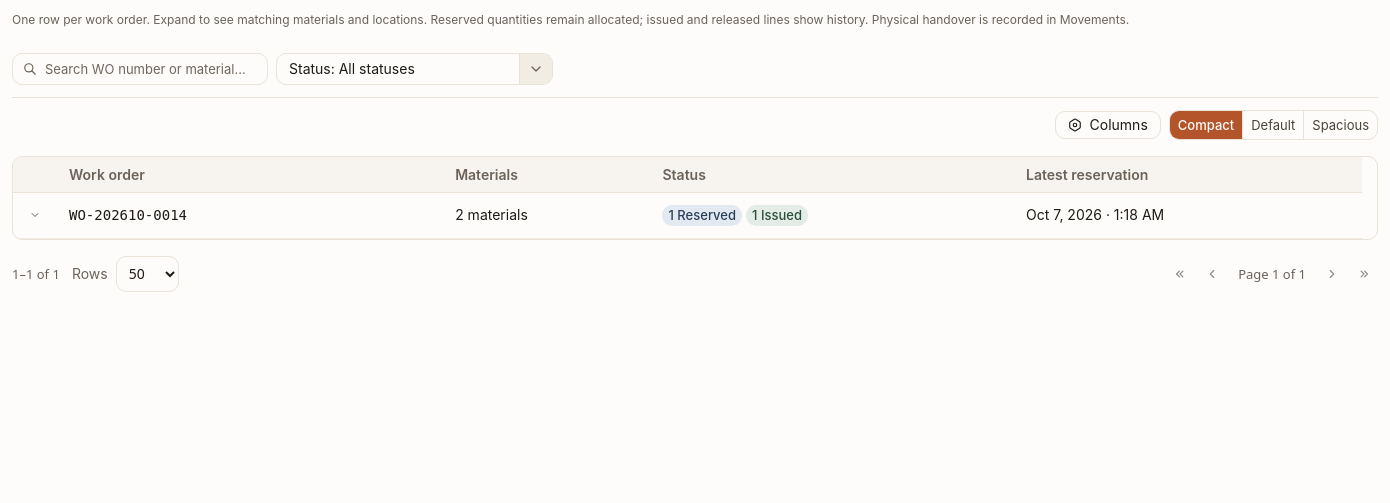
Test case: toggles material details by clicking the WO row or activating it with the keyboard
This screenshot has width=1390, height=503.
Click the text "2 materials". click: click(491, 215)
box: [443,193,650,238]
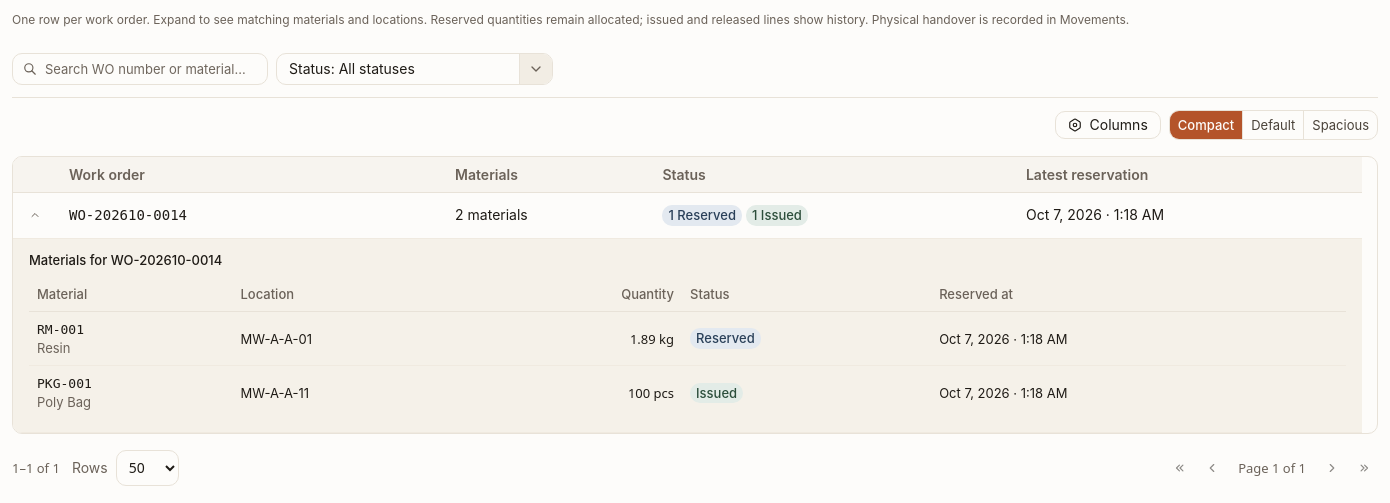
Result: the text "RM-001" is shown at [37,322,84,337]
Click the text "WO-202610-0014". click: click(688, 215)
box: [13,193,1362,238]
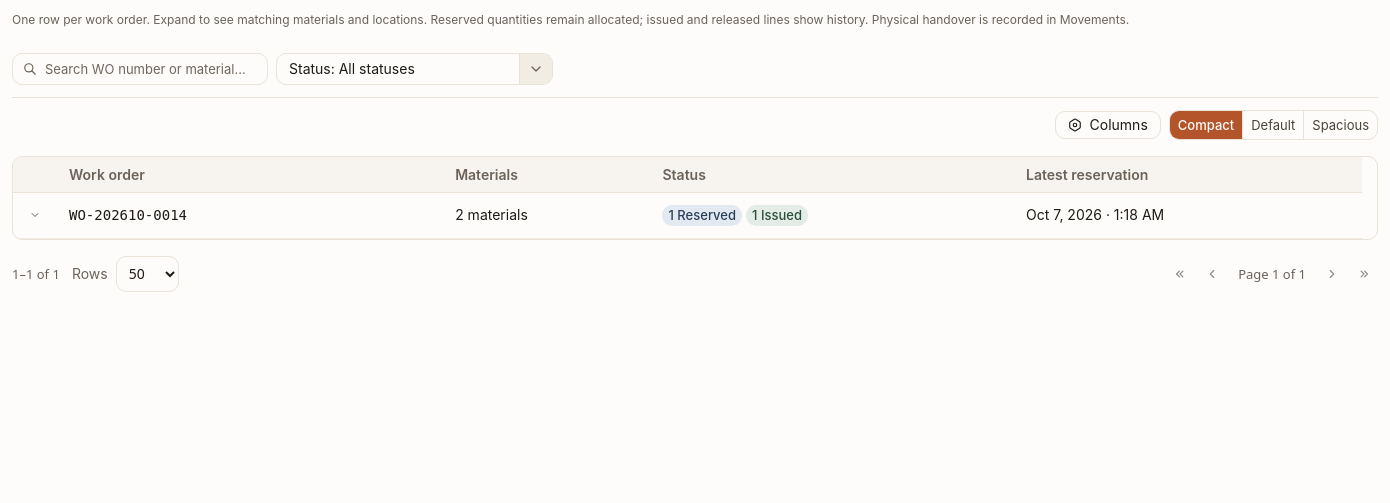
Result: the text "RM-001" is gone
Press Enter in the text "WO-202610-0014", box [13,193,1362,238]
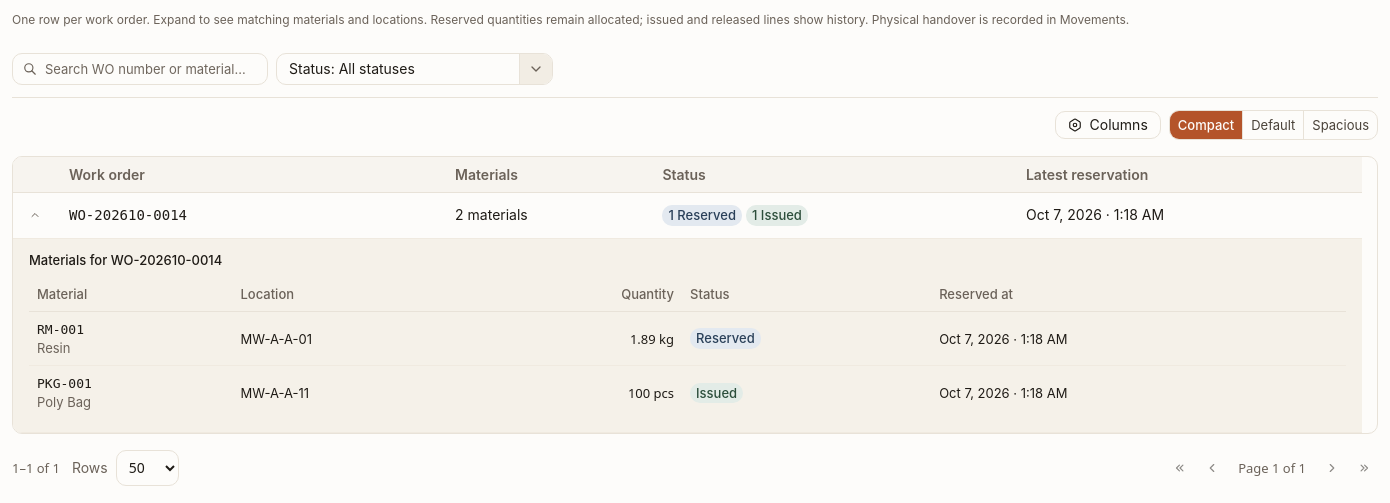
Result: the text "RM-001" is shown at [37,322,84,337]
Press Space in the text "WO-202610-0014", box [13,193,1362,238]
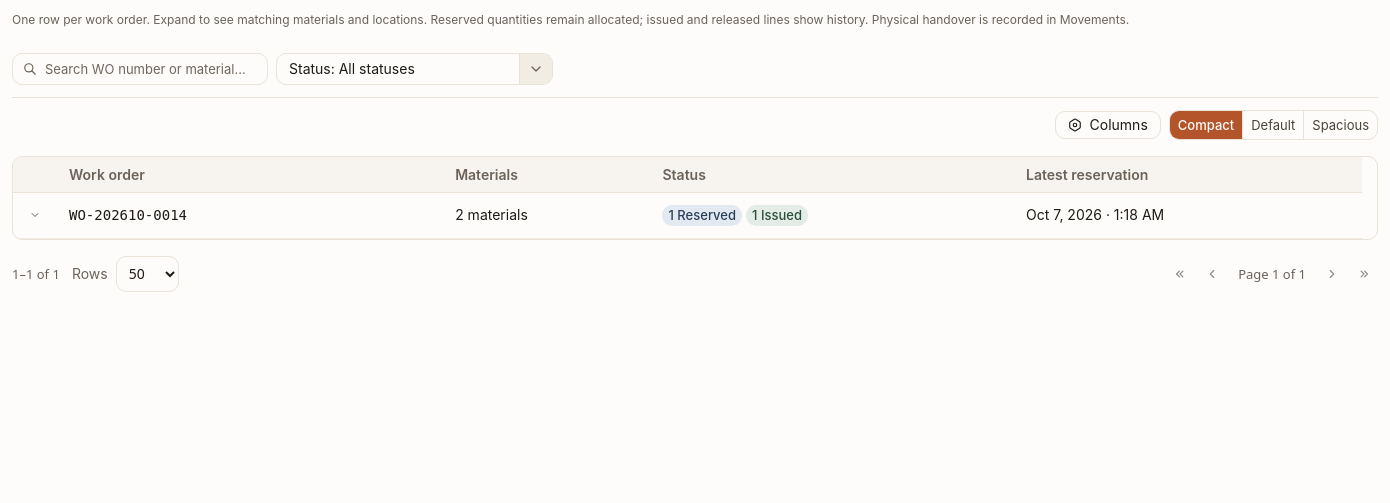
Result: the text "RM-001" is gone
Click the button named "Expand row". click: click(35, 215)
box: [25,205,45,225]
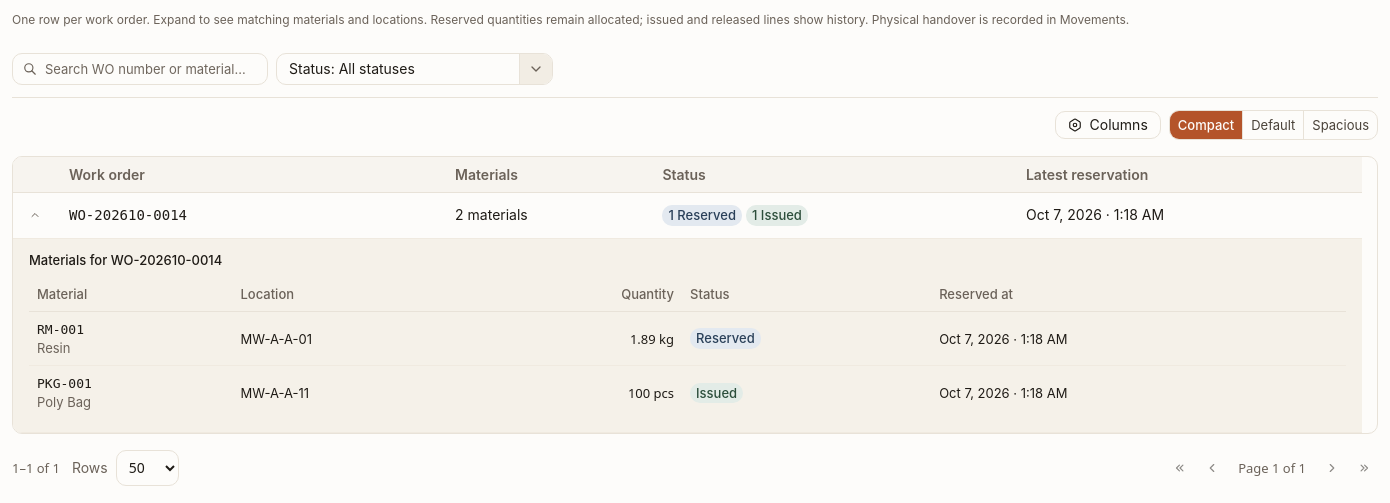
Result: the text "RM-001" is shown at [37,322,84,337]
